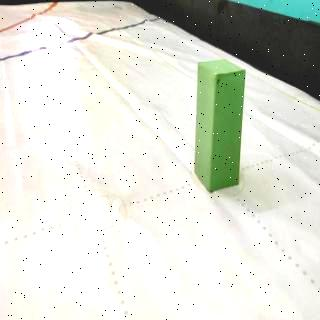greenbox: (194, 58, 247, 194)
